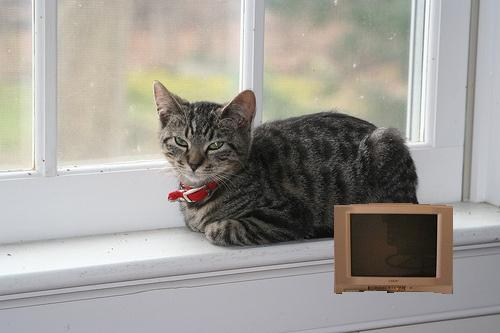tampered: (335, 204, 453, 294)
